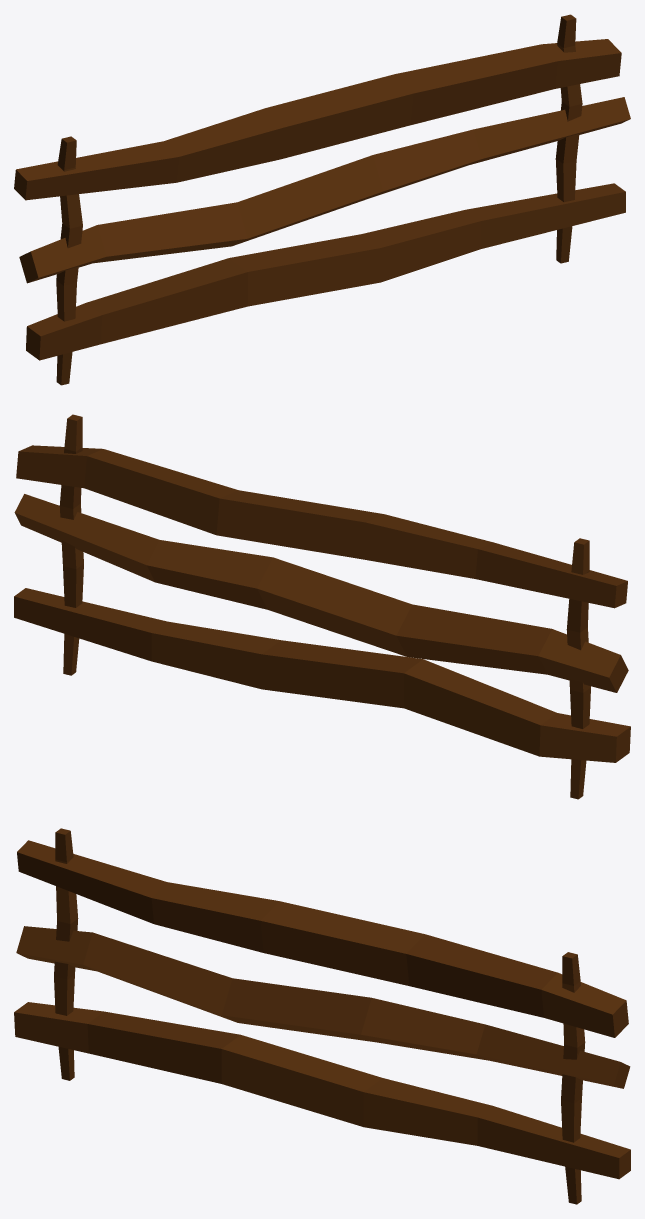
Rendered from fence.fbx.
The picture shows the model from 3 angles, top to bottom: view 1: azimuth 30°, elevation 25°; view 2: azimuth 150°, elevation 25°; view 3: azimuth 330°, elevation 25°; orthographic projection.
Visible parts, largest first — view 1: Fence; view 2: Fence; view 3: Fence.
Boxes of the visible parts, x1,y1,x2,y2 form: Fence: (14, 14, 630, 385); Fence: (14, 414, 630, 799); Fence: (14, 828, 630, 1204).
Bounding box in the file's own units: 36.12 × 14.32 × 3.16.
